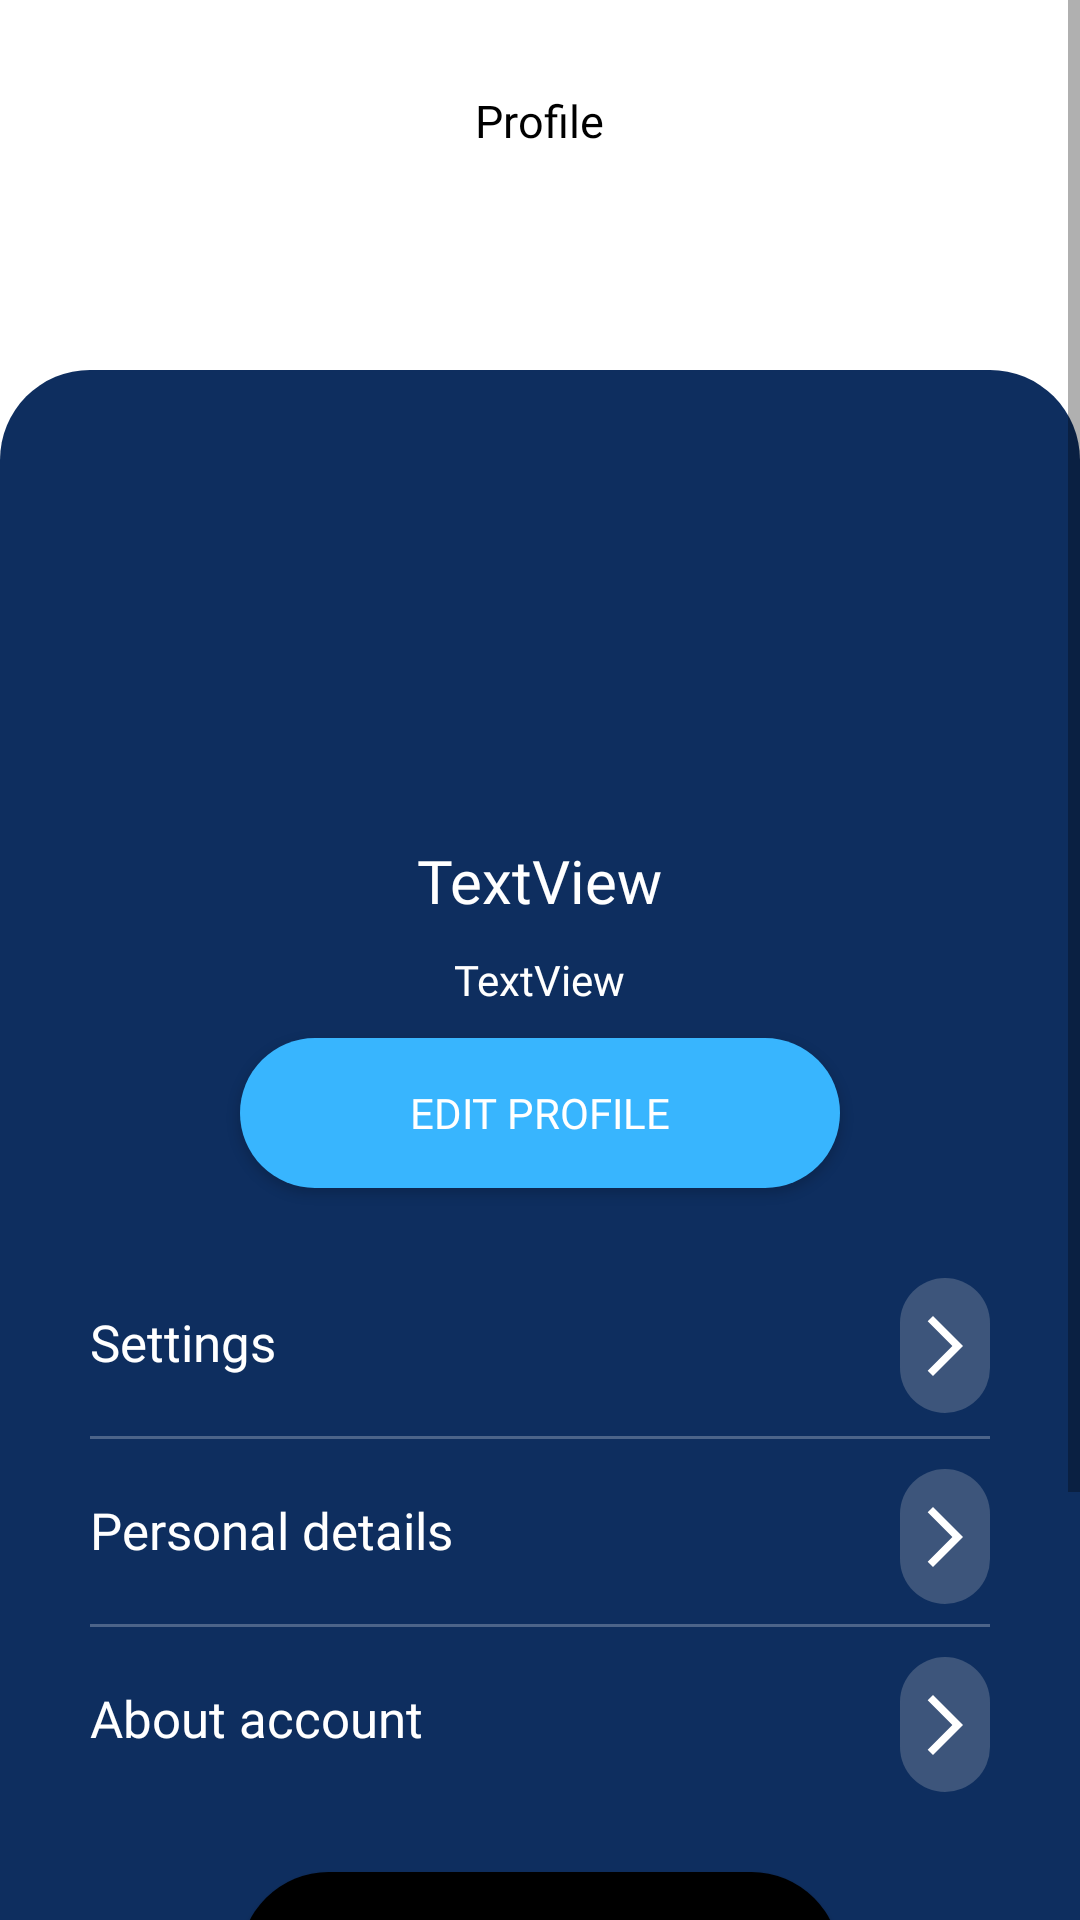

Named icons in this screenshot (1080 × 1920) and their bounding boxes, (x1, y1, x2, y2):
arrow forward: (900, 1278, 990, 1413), (900, 1469, 990, 1604), (900, 1657, 990, 1792)
